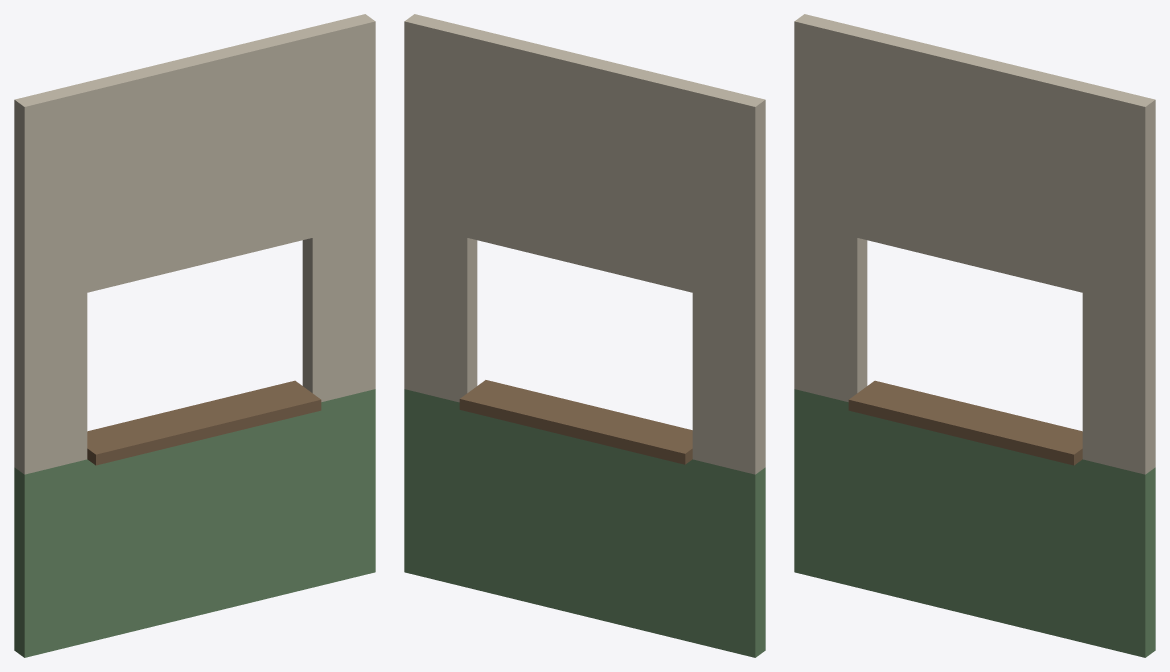
Rendered from Mesh_Wall2Colors_E3.fbx.
3 views of the same model, side by side, from view 1: azimuth 30°, elevation 25°; view 2: azimuth 150°, elevation 25°; view 3: azimuth 330°, elevation 25° (orthographic).
Parts seen in each view (by area): view 1: Mesh_Wall2Colors_E3; view 2: Mesh_Wall2Colors_E3; view 3: Mesh_Wall2Colors_E3.
Part boxes in pixels (<box>): Mesh_Wall2Colors_E3: <box>14,14,375,657</box>; Mesh_Wall2Colors_E3: <box>404,14,765,657</box>; Mesh_Wall2Colors_E3: <box>794,14,1155,657</box>.
Bounding box in the file's own units: 2 × 3 × 0.2574.
